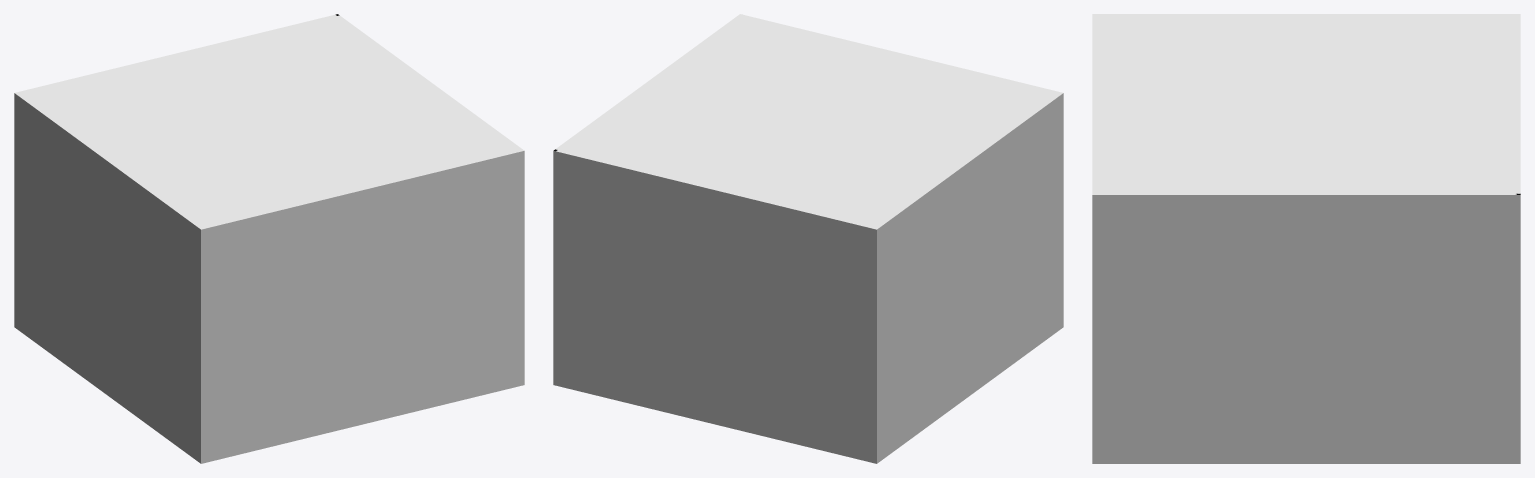
File: Wallltest.fbx
The picture shows the model from 3 angles, left to right: view 1: azimuth 30°, elevation 25°; view 2: azimuth 150°, elevation 25°; view 3: azimuth 270°, elevation 25°; orthographic projection. The views are drawn at different scales.
Parts seen in each view (by area): view 1: Cube; view 2: Cube; view 3: Cube.
Part boxes in pixels (left/top/right/bottom): Cube: left=14, top=14, right=524, bottom=463; Cube: left=553, top=14, right=1063, bottom=463; Cube: left=1092, top=14, right=1520, bottom=463.
Bounding box in the file's own units: 3235 × 2239 × 3235.
